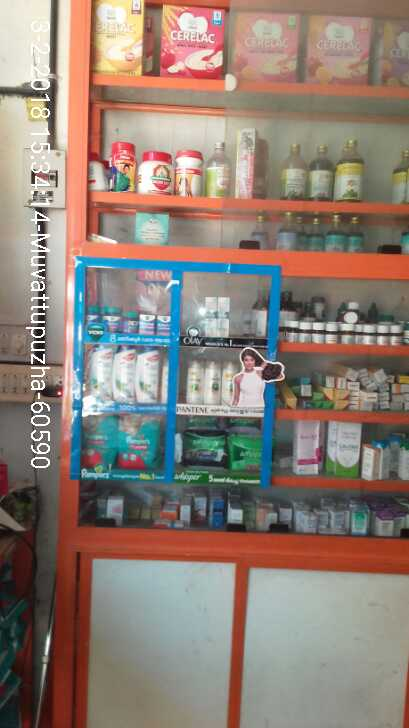vicks: (81, 308, 176, 337)
